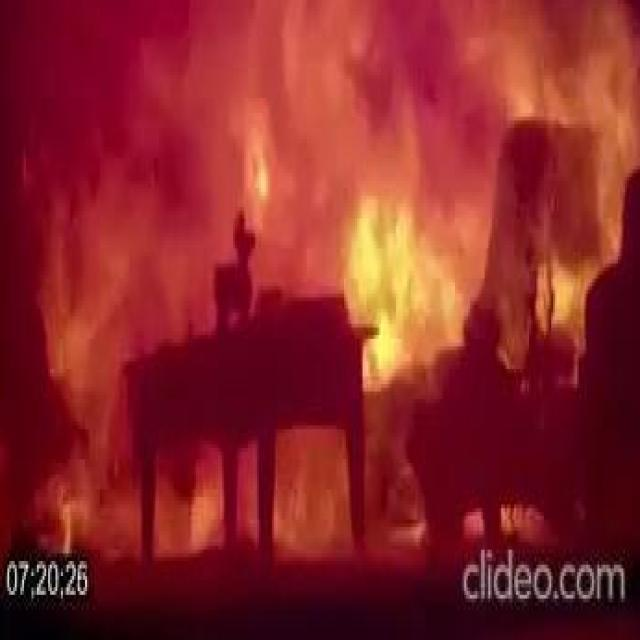smoke: (33, 64, 137, 550), (344, 128, 466, 392), (455, 0, 638, 162), (210, 0, 355, 203), (508, 196, 590, 392), (364, 402, 431, 568), (279, 425, 348, 565), (161, 448, 224, 557), (501, 497, 588, 550), (237, 444, 256, 550)
